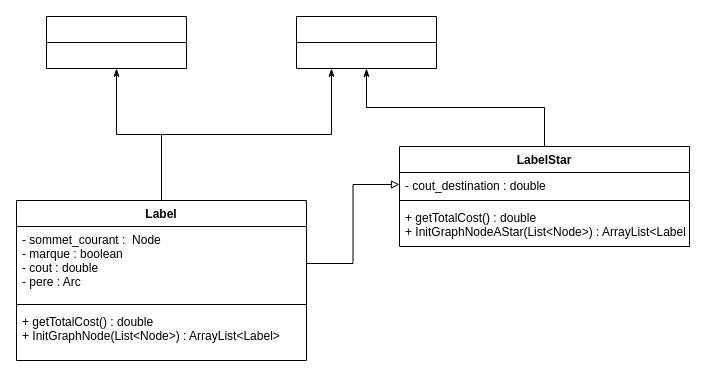
Some shapes in this 709 by 377 pixel diagram are drawn without their labels. Here are the shapes that lost their labels. From the top down, the box of each, then its label:
(46, 16, 186, 68): DijkstraAlgorithm
(296, 16, 436, 68): AStarAlgorithm
